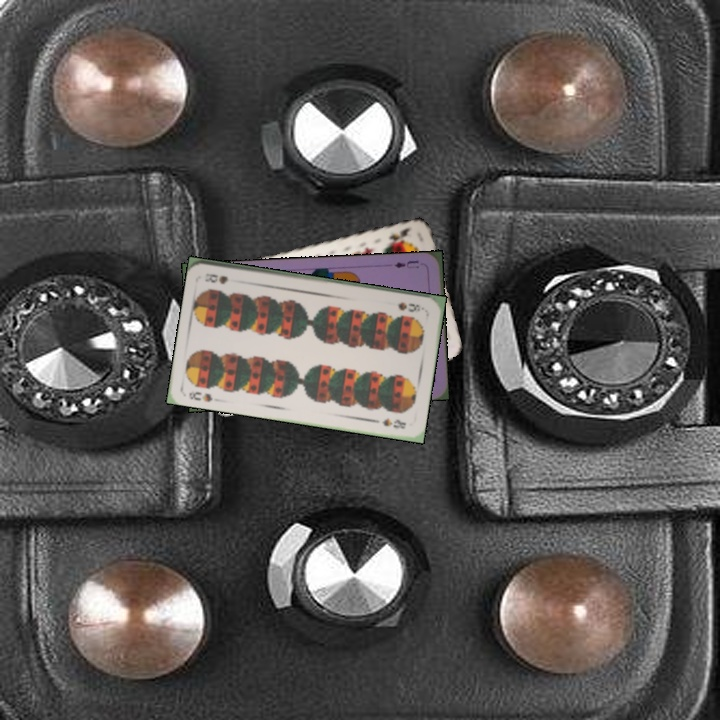EU: (390, 257, 422, 271)
S8: (394, 298, 427, 315), (185, 388, 215, 404)
SK: (384, 223, 414, 247)
